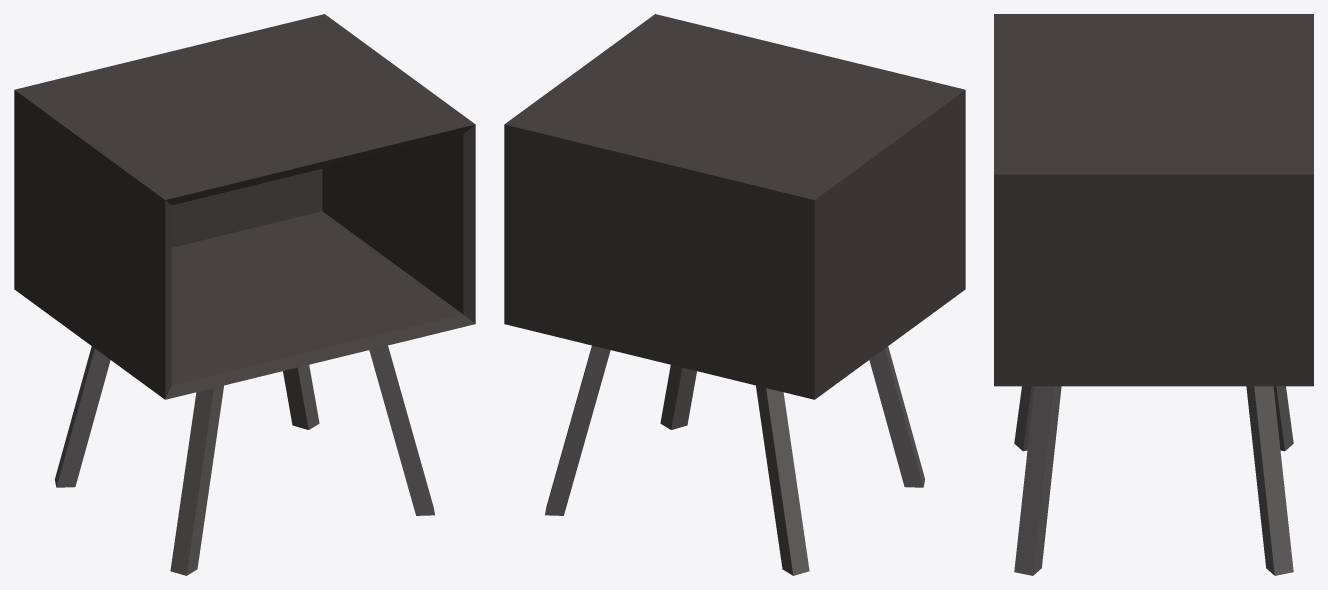
Rendered from Cupboard_20_01.fbx.
The picture shows the model from 3 angles, left to right: view 1: azimuth 30°, elevation 25°; view 2: azimuth 150°, elevation 25°; view 3: azimuth 270°, elevation 25°; orthographic projection. The views are drawn at different scales.
Visible parts, largest first — view 1: Cupboard_20_01; view 2: Cupboard_20_01; view 3: Cupboard_20_01.
Boxes of the visible parts, x1,y1,x2,y2 form: Cupboard_20_01: (14,14,475,575); Cupboard_20_01: (504,14,965,575); Cupboard_20_01: (994,14,1313,575).
Bounding box in the file's own units: 50.87 × 61.12 × 42.83.
